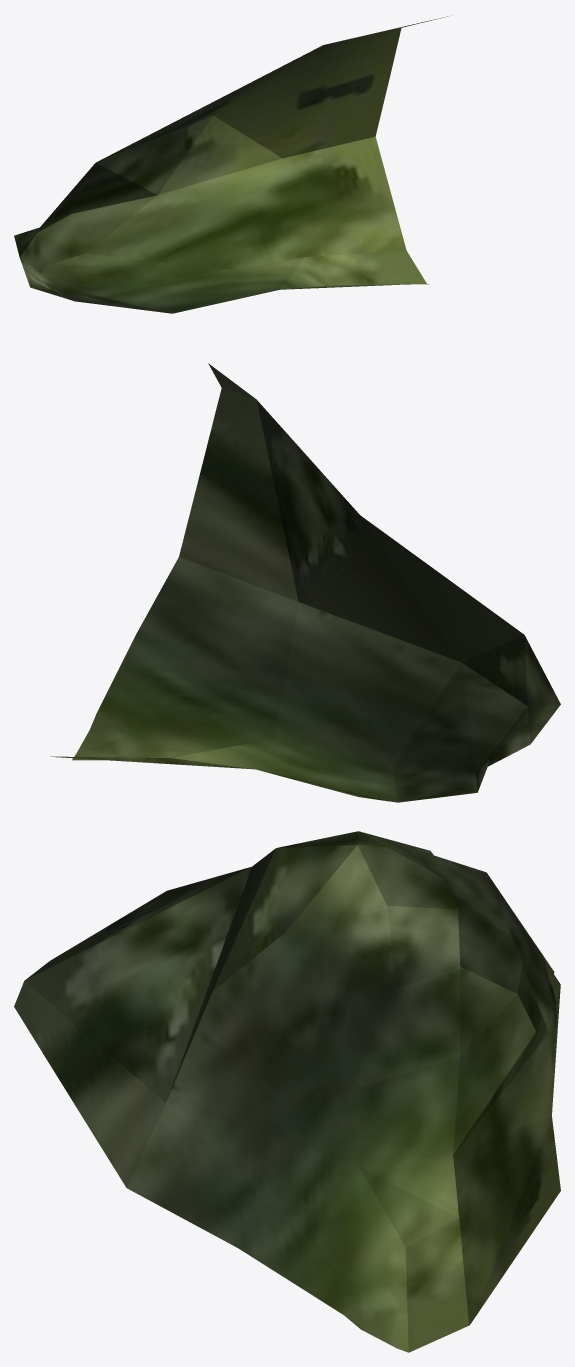
3 views of the same model, one above another, from view 1: azimuth 30°, elevation 25°; view 2: azimuth 150°, elevation 25°; view 3: azimuth 270°, elevation 25° (orthographic). The views are drawn at different scales.
Size of the model in its own units: 1.1 by 0.7995 by 0.8455.
Materials: 1 (1 with a texture image).
